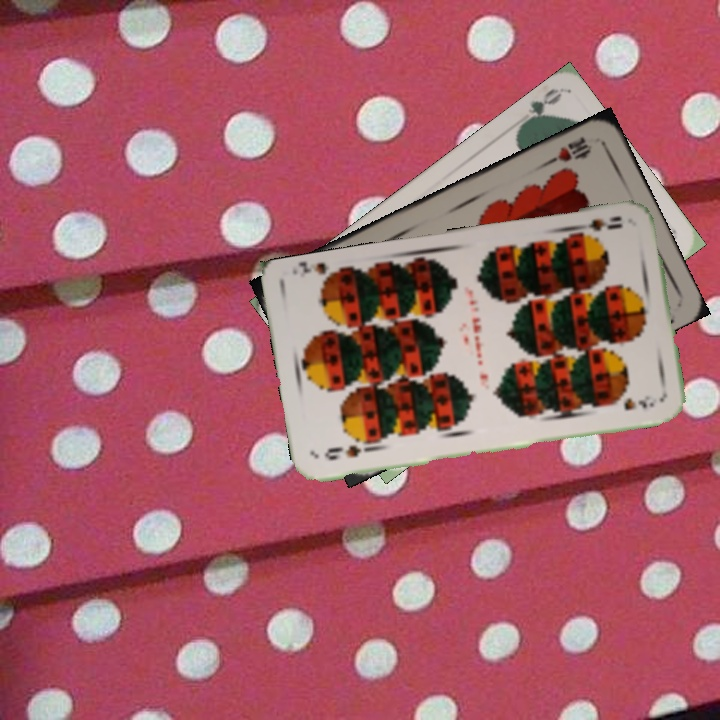GO: (514, 84, 563, 133)
H10: (542, 132, 595, 168)
S9: (571, 212, 625, 242), (320, 439, 375, 463)
